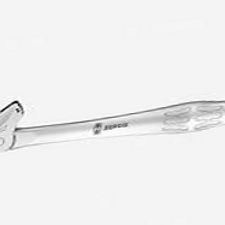Wrench: (1, 80, 225, 146)
